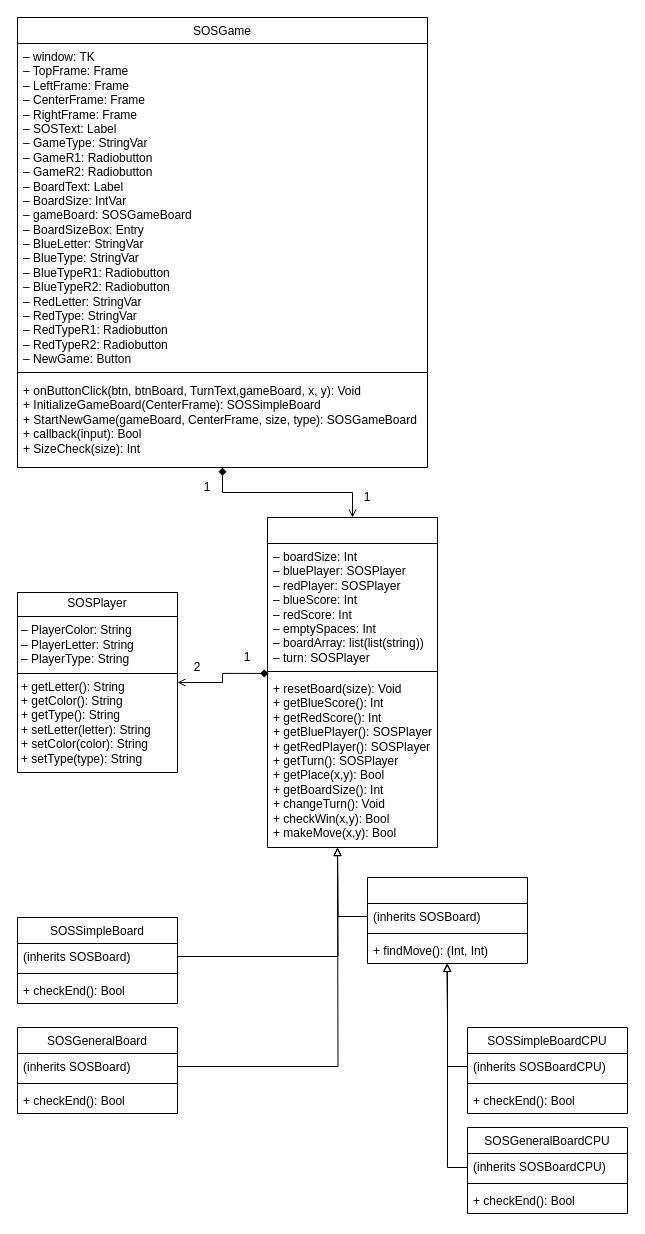
Image size: 645x1234. Some labels were removed from this diagram. Each missing label, with the box of its shape:
SOSBoard: (266, 516, 438, 848)
SOSBoardCPU: (366, 876, 528, 964)
